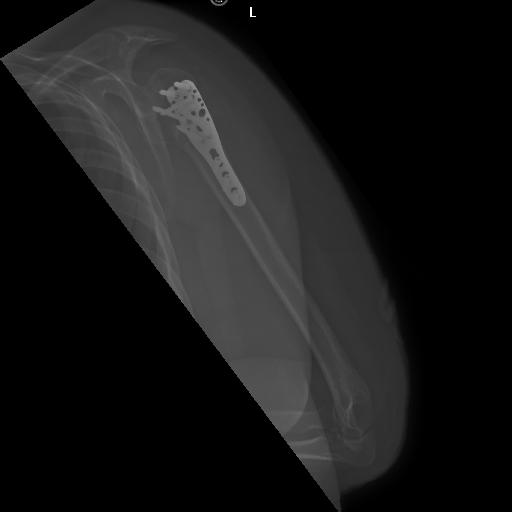humerus: (168, 132, 201, 162)
